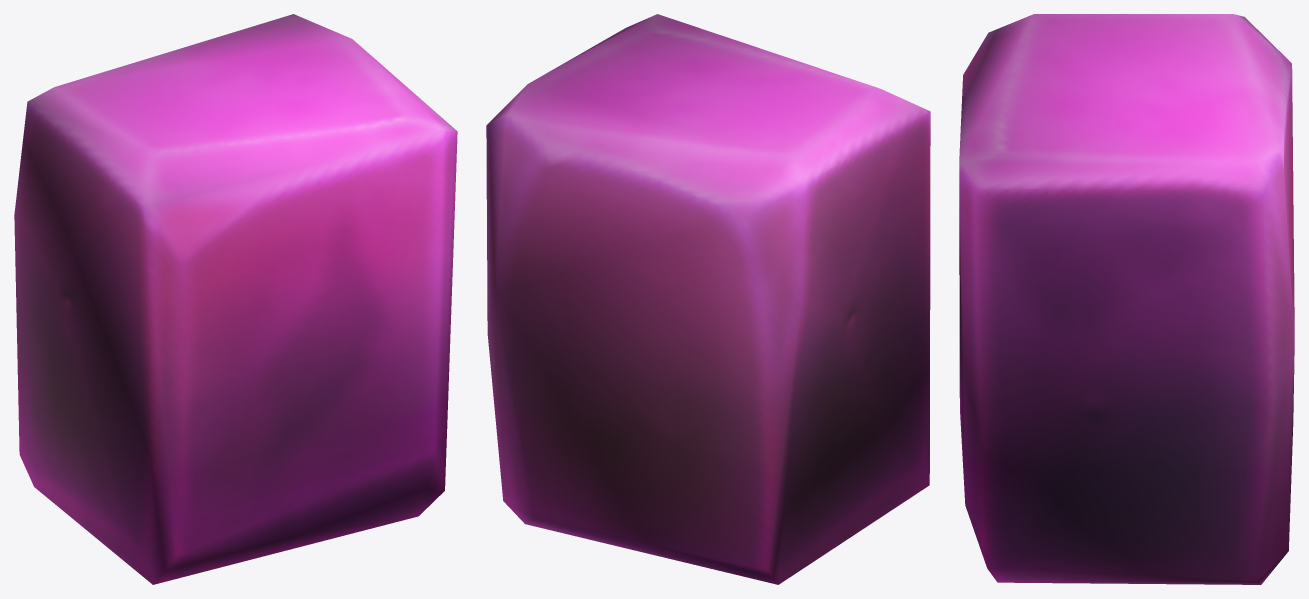
The model's file is SM_Gem_Kunzite_Piece_002.fbx.
The picture shows the model from 3 angles, left to right: view 1: azimuth 30°, elevation 25°; view 2: azimuth 150°, elevation 25°; view 3: azimuth 270°, elevation 25°; orthographic projection. The views are drawn at different scales.
Parts seen in each view (by area): view 1: SM_Gem_Kunzite_Piece_002; view 2: SM_Gem_Kunzite_Piece_002; view 3: SM_Gem_Kunzite_Piece_002.
Part boxes in pixels (<box>): SM_Gem_Kunzite_Piece_002: <box>14,14,457,584</box>; SM_Gem_Kunzite_Piece_002: <box>486,14,930,584</box>; SM_Gem_Kunzite_Piece_002: <box>959,14,1294,584</box>.
Size of the model in its own units: 10.73 by 13.59 by 9.35.
